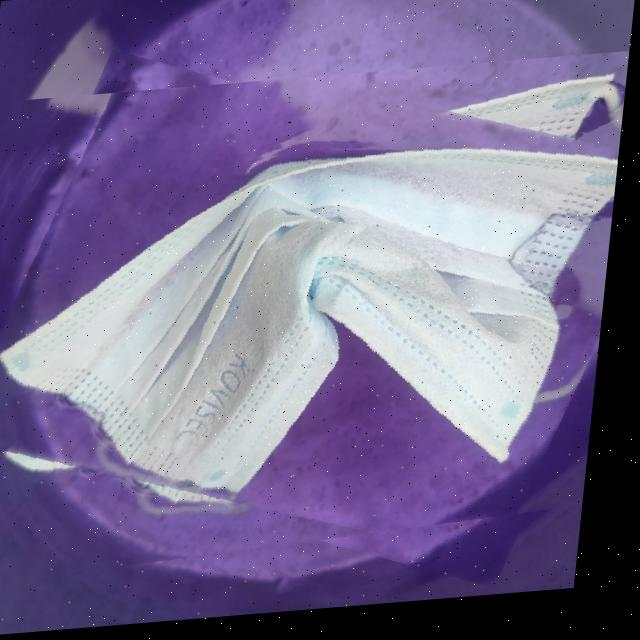mask: (0, 61, 632, 588)
